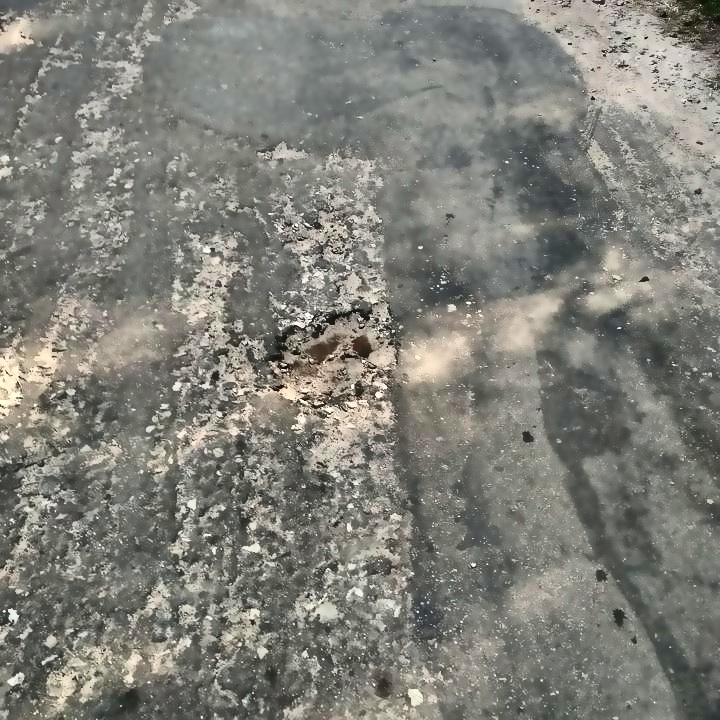pothole: (255, 297, 401, 414)
